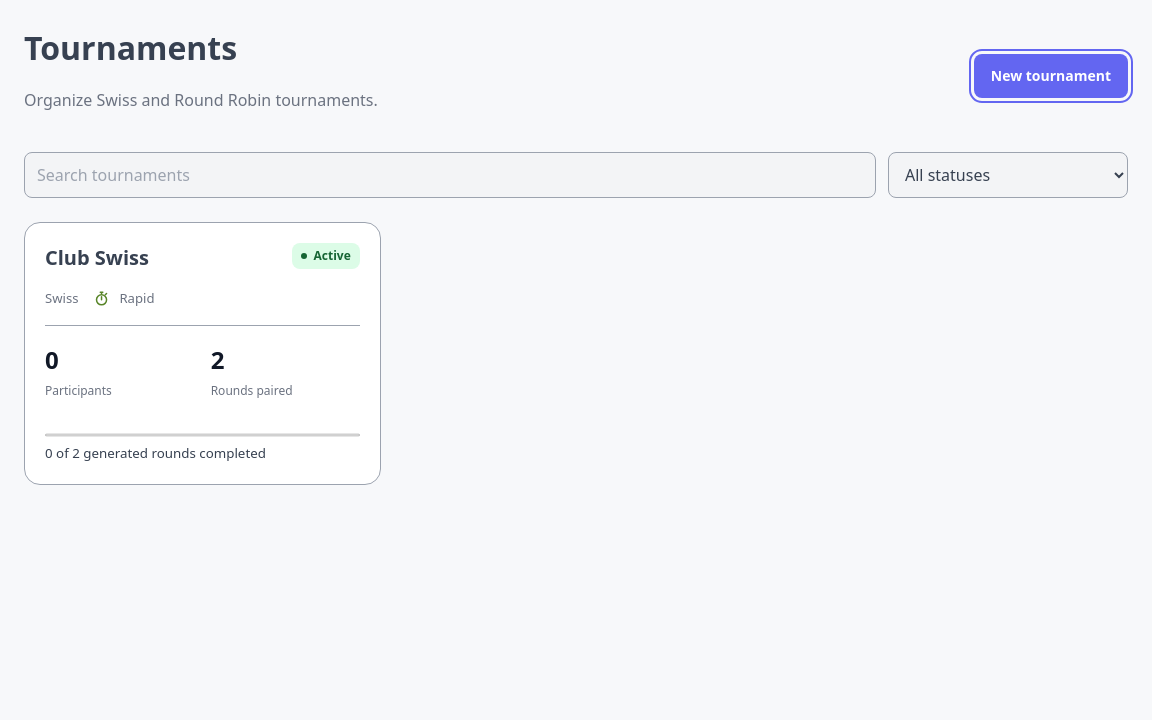
Test: TournamentsPage › traps focus, closes with Escape, and restores the opener
Click the button "New tournament" at (1051, 76), box [974,54,1128,98]
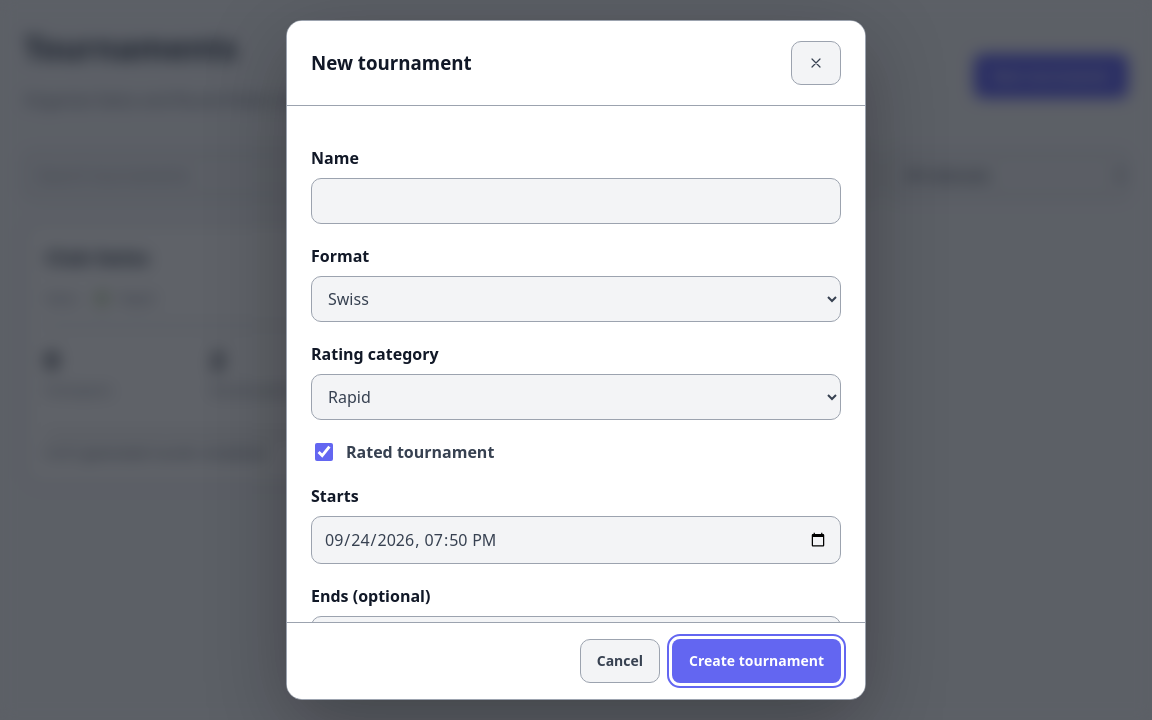
Press Tab in the button "Create tournament", box [672,639,841,683]
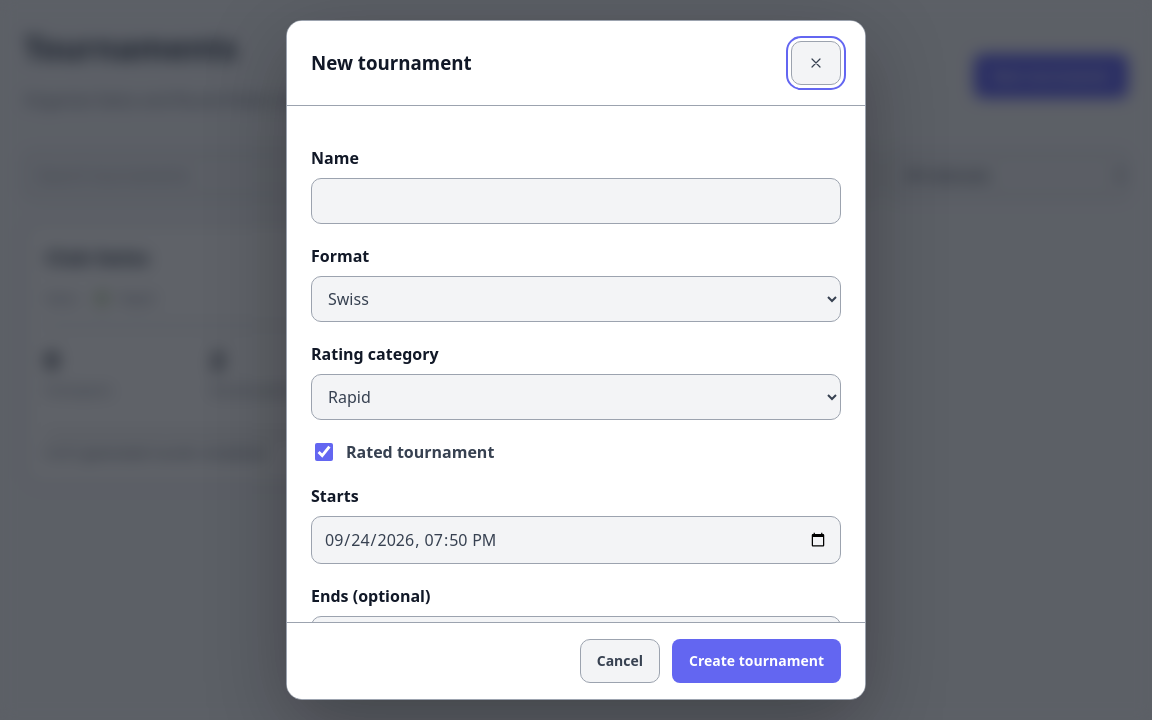
Press Escape in the dialog "New tournament", box [286,20,866,700]
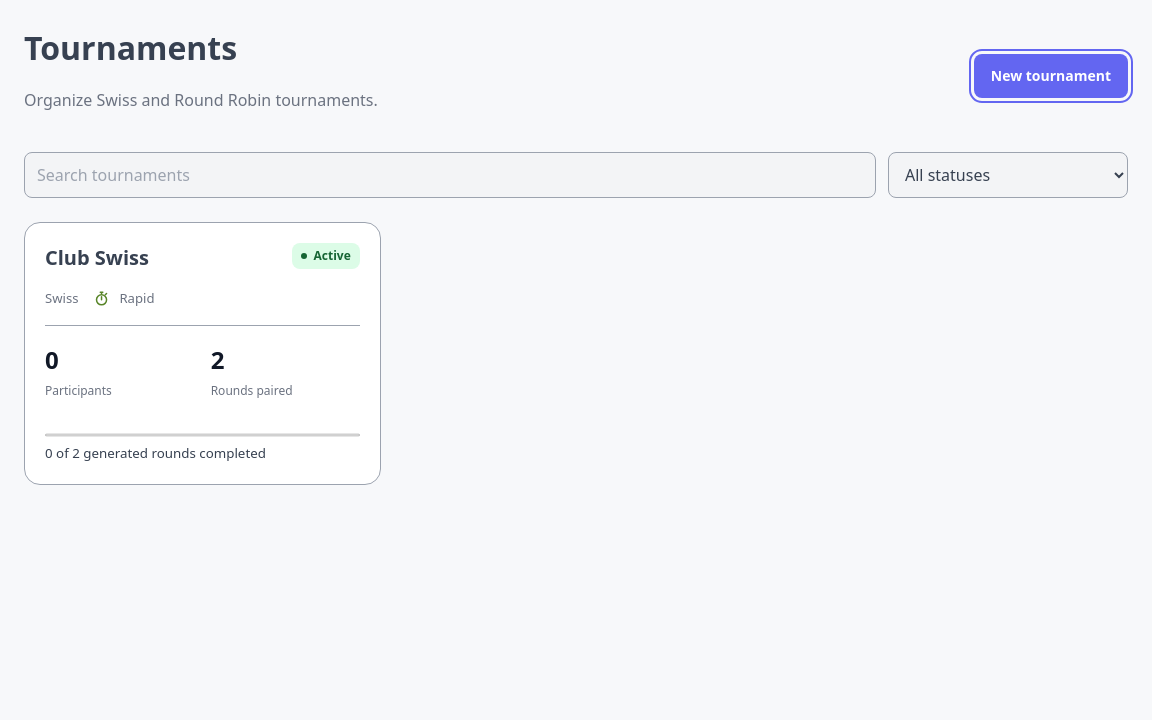
Result: the dialog is gone
